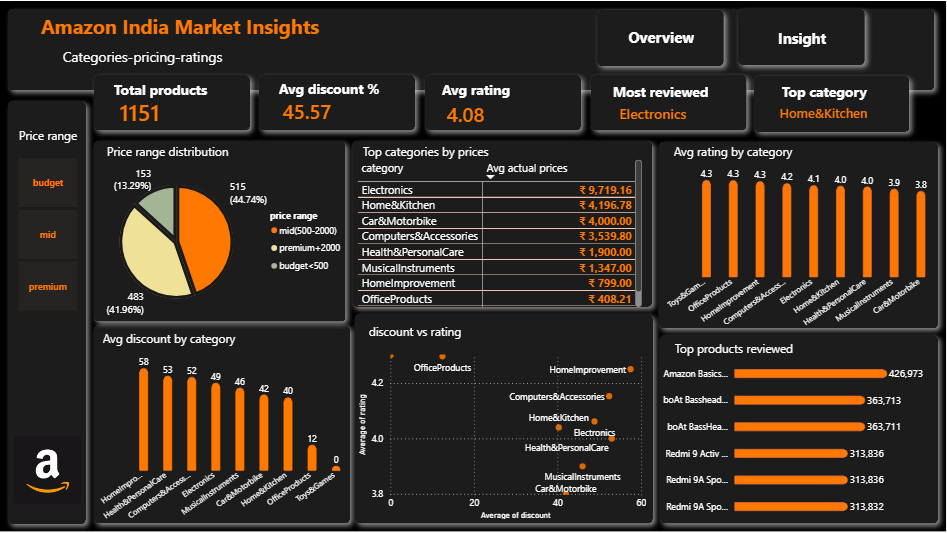

The dashboard page shown, as its layout file describes it:
{"tool":"powerbi","page":{"name":"overview","canvas":[1280,720],"ordinal":0},"visuals":[{"type":"shape","box":[0,1.4,1280.2,717.1],"z":500},{"type":"shape","box":[0,0,1276.1,134.3],"z":1000},{"type":"shape","box":[0,123.8,129.6,596.2],"z":2000},{"type":"shape","box":[116.6,89.3,235,99.4],"z":3000},{"type":"shape","box":[339.8,89.3,235,99.4],"z":4000},{"type":"shape","box":[563,89.3,235,99.4],"z":5000},{"type":"shape","box":[787.7,89.3,234.7,99.4],"z":6000},{"type":"shape","box":[1008.6,90,234.3,100],"z":7000},{"type":"shape","box":[116.4,426.9,370.1,292.5],"z":8000},{"type":"shape","box":[880.6,440.3,400,279.1],"z":9000},{"type":"shape","box":[468.7,411.9,426.9,307.5],"z":10000},{"type":"shape","box":[464.3,178.6,430,248.6],"z":11000},{"type":"shape","box":[115.7,178.6,364.3,268.6],"z":12000},{"type":"shape","box":[879.1,179.1,401.5,276.1],"z":13000},{"type":"textbox","box":[51.8,11.5,541.4,66.2],"z":14000},{"type":"textbox","box":[80.6,57.6,259.2,44.6],"z":15000},{"type":"textbox","box":[593.3,102.2,259.2,44.6],"z":16000},{"type":"textbox","box":[149.8,102.2,259.2,44.6],"z":17000},{"type":"textbox","box":[373,100.8,259.2,44.6],"z":18000},{"type":"textbox","box":[823.7,105.1,259.2,67.7],"z":19000},{"type":"textbox","box":[1052.6,105.1,210.2,44.6],"z":20000},{"type":"cardVisual","fields":{"Data":["amazon_final.total products"]},"box":[134.3,111.4,151.4,78.6],"z":21000},{"type":"cardVisual","fields":{"Data":["amazon_final.avg discount %"]},"box":[354.3,110,151.4,78.6],"z":22000},{"type":"cardVisual","fields":{"Data":["amazon_final.avg rating"]},"box":[575.7,112.9,151.4,78.6],"z":23000},{"type":"cardVisual","fields":{"Data":["amazon_final.top reviewed product"]},"box":[810,114.3,270,75.7],"z":24000},{"type":"cardVisual","fields":{"Data":["amazon_final.top category"]},"box":[1025.3,110.9,203,79.2],"z":25000},{"type":"pieChart","fields":{"Category":["amazon_final.price range"],"Y":["CountNonNull(amazon_final.product_name)"]},"box":[108.6,207.1,367.1,240],"z":26000},{"type":"columnChart","fields":{"Category":["amazon_final.category"],"Y":["Avg(amazon_final.discount)"]},"box":[129.6,465.1,357.1,249.1],"z":27000},{"type":"textbox","box":[135.4,442.1,288,44.6],"z":28000},{"type":"textbox","box":[141.1,188.6,288,44.6],"z":29000},{"type":"barChart","fields":{"Category":["amazon_final.product_name"],"Y":["Sum(amazon_final.rating_count)"]},"box":[880.6,464.2,400,255.2],"z":30000},{"type":"textbox","box":[907.5,455.2,288.1,44.8],"z":31000},{"type":"scatterChart","fields":{"Y":["Avg(amazon_final.rating)"],"X":["Avg(amazon_final.discount)"],"Category":["amazon_final.category"]},"box":[480.6,465.7,398.5,240.3],"z":32000},{"type":"textbox","box":[494,432.8,288.1,44.8],"z":33000},{"type":"columnChart","fields":{"Category":["amazon_final.category"],"Y":["Avg(amazon_final.rating)"]},"box":[897.1,211.4,382.9,240],"z":34000},{"type":"textbox","box":[907.1,188.6,287.1,44.3],"z":35000},{"type":"pivotTable","fields":{"Rows":["amazon_final.category"],"Values":["Avg(amazon_final.actual_price)"]},"box":[480,211.4,394.3,208.6],"z":36000},{"type":"textbox","box":[487.1,188.6,287.1,44.3],"z":37000},{"type":"slicer","fields":{"Values":["amazon_final.price range2"]},"box":[0,207.1,130,220],"z":38000},{"type":"shape","box":[987.1,0,195.7,100],"z":39000},{"type":"shape","box":[795.7,1.4,195.7,100],"z":40000},{"type":"textbox","box":[21.4,167.1,108.6,44.3],"z":41000},{"type":"actionButton","box":[840,27.1,108.6,45.7],"z":42000},{"type":"actionButton","box":[1031.4,28.6,108.6,45.7],"z":43000},{"type":"image","box":[20,585.7,91.4,100],"z":44000}]}

Visuals, with their boxes in screenshot pixels (x1, y1, x2, y2), scaled from the page's 1280x720 canvas onto the 947x533 screenshot:
shape: Rect(0, 1, 946, 532)
shape: Rect(0, 0, 944, 99)
shape: Rect(0, 92, 96, 532)
shape: Rect(86, 66, 260, 140)
shape: Rect(251, 66, 425, 140)
shape: Rect(417, 66, 590, 140)
shape: Rect(583, 66, 756, 140)
shape: Rect(746, 67, 920, 141)
shape: Rect(86, 316, 360, 532)
shape: Rect(652, 326, 946, 532)
shape: Rect(347, 305, 663, 532)
shape: Rect(344, 132, 662, 316)
shape: Rect(86, 132, 355, 331)
shape: Rect(650, 133, 946, 337)
textbox: Rect(38, 9, 439, 58)
textbox: Rect(60, 43, 251, 76)
textbox: Rect(439, 76, 631, 109)
textbox: Rect(111, 76, 303, 109)
textbox: Rect(276, 75, 468, 108)
textbox: Rect(609, 78, 801, 128)
textbox: Rect(779, 78, 934, 111)
cardVisual - amazon_final.total products: Rect(99, 82, 211, 141)
cardVisual - amazon_final.avg discount %: Rect(262, 81, 374, 140)
cardVisual - amazon_final.avg rating: Rect(426, 84, 538, 142)
cardVisual - amazon_final.top reviewed product: Rect(599, 85, 799, 141)
cardVisual - amazon_final.top category: Rect(759, 82, 909, 141)
pieChart - amazon_final.price range x CountNonNull(amazon_final.product_name): Rect(80, 153, 352, 331)
columnChart - amazon_final.category x Avg(amazon_final.discount): Rect(96, 344, 360, 529)
textbox: Rect(100, 327, 313, 360)
textbox: Rect(104, 140, 317, 173)
barChart - amazon_final.product_name x Sum(amazon_final.rating_count): Rect(652, 344, 946, 532)
textbox: Rect(671, 337, 885, 370)
scatterChart - Avg(amazon_final.rating) x Avg(amazon_final.discount): Rect(356, 345, 650, 523)
textbox: Rect(365, 320, 579, 354)
columnChart - amazon_final.category x Avg(amazon_final.rating): Rect(664, 156, 946, 334)
textbox: Rect(671, 140, 884, 172)
pivotTable - amazon_final.category x Avg(amazon_final.actual_price): Rect(355, 156, 647, 311)
textbox: Rect(360, 140, 573, 172)
slicer - amazon_final.price range2: Rect(0, 153, 96, 316)
shape: Rect(730, 0, 875, 74)
shape: Rect(589, 1, 733, 75)
textbox: Rect(16, 124, 96, 156)
actionButton: Rect(621, 20, 702, 54)
actionButton: Rect(763, 21, 843, 55)
image: Rect(15, 434, 82, 508)
